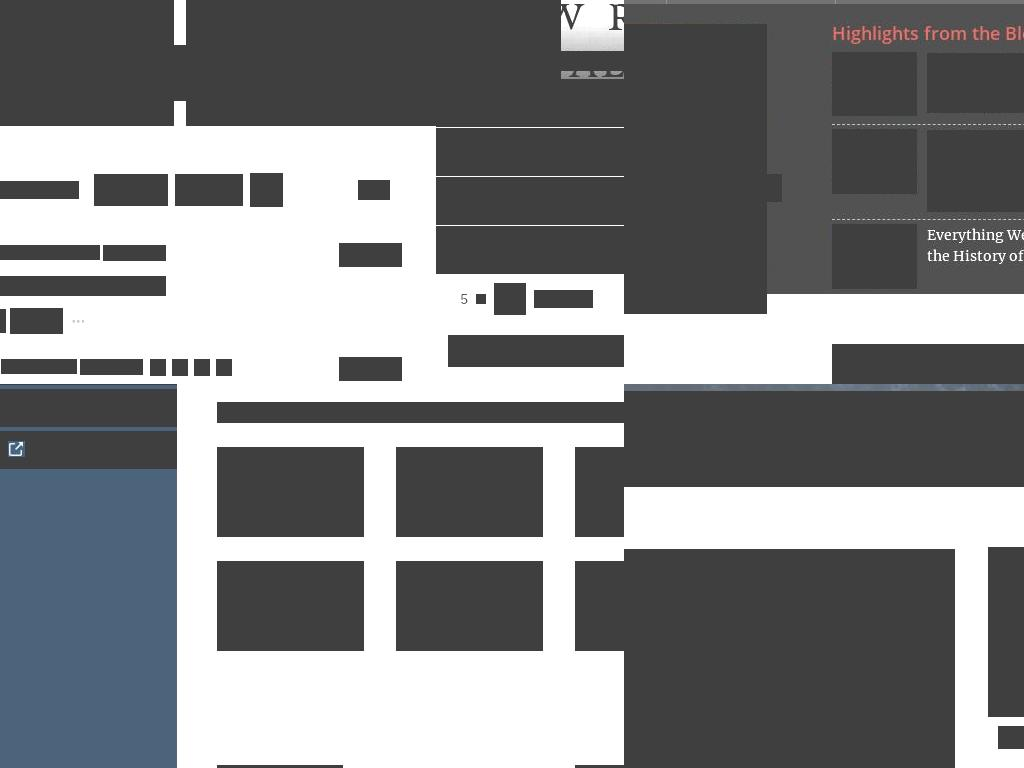button: (186, 0, 561, 126), (624, 391, 1024, 487), (0, 0, 174, 126), (217, 447, 364, 537), (396, 447, 543, 537), (217, 561, 364, 651), (396, 561, 543, 651), (436, 79, 624, 127), (436, 128, 624, 176), (436, 177, 624, 225), (436, 226, 624, 274), (436, 275, 624, 323), (0, 389, 177, 427), (0, 431, 177, 469), (448, 335, 624, 367), (575, 447, 624, 537), (575, 561, 624, 651), (94, 174, 168, 206), (175, 174, 243, 206), (339, 243, 402, 267), (339, 357, 402, 381), (0, 181, 79, 199), (10, 308, 63, 334), (103, 245, 166, 261), (80, 359, 143, 375), (358, 180, 390, 200)
heading: (217, 402, 624, 423), (624, 425, 952, 450), (198, 27, 549, 50), (927, 130, 1024, 212), (927, 53, 1024, 113), (927, 225, 1024, 265), (832, 24, 1024, 42), (452, 51, 624, 71), (0, 276, 166, 296), (0, 47, 127, 70)
image: (624, 24, 767, 314), (832, 344, 1024, 384), (832, 129, 917, 194), (832, 224, 917, 289), (832, 52, 917, 116), (494, 87, 526, 119), (494, 136, 526, 168), (494, 234, 526, 266), (494, 283, 526, 315), (754, 174, 782, 202), (497, 188, 521, 212), (102, 180, 123, 200), (183, 180, 204, 200), (358, 180, 378, 200), (150, 359, 166, 376), (172, 359, 188, 376), (194, 359, 210, 376), (216, 359, 232, 376), (8, 441, 25, 457), (378, 22, 394, 38), (198, 98, 212, 112), (345, 248, 359, 262), (345, 362, 359, 376), (476, 98, 486, 108), (476, 147, 486, 157), (476, 196, 486, 206), (476, 245, 486, 255), (476, 294, 486, 304)
link: (0, 245, 100, 260), (1, 359, 77, 374)
text: (624, 549, 955, 768), (0, 45, 394, 101), (198, 49, 549, 90), (624, 450, 952, 472), (624, 406, 952, 425), (0, 69, 127, 90), (0, 19, 111, 41), (222, 97, 324, 113), (534, 143, 624, 161), (534, 192, 624, 210), (534, 241, 624, 259), (0, 181, 65, 199), (250, 173, 283, 207), (534, 94, 594, 112), (534, 290, 593, 308), (359, 244, 391, 266), (359, 358, 391, 380), (126, 181, 156, 199), (207, 181, 231, 199), (32, 313, 59, 329), (448, 94, 468, 112), (448, 143, 468, 161), (448, 192, 468, 210), (448, 241, 468, 259), (448, 290, 468, 308), (608, 585, 624, 602)
